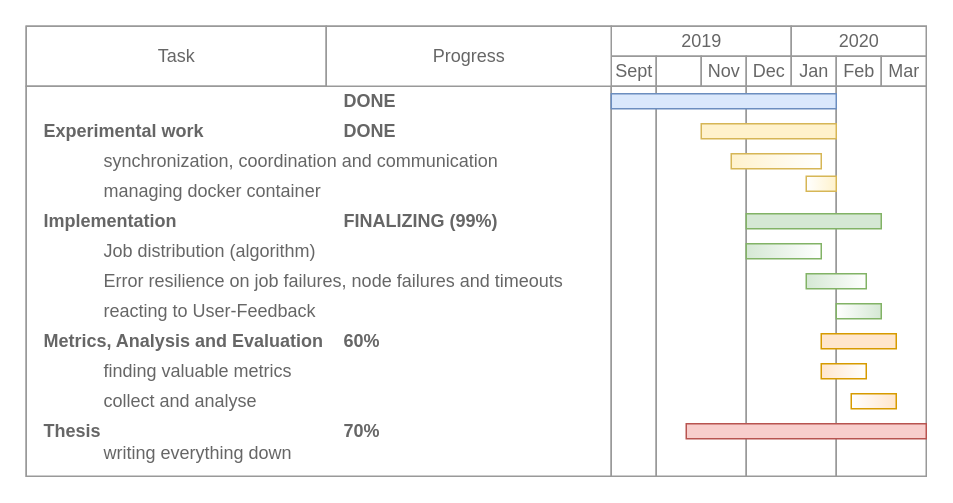
This 953x503 diagram has some shape labels left out. Each missing label, with the centre of its shape:
Oct: the point at 678,70
Research: the point at 100,100
